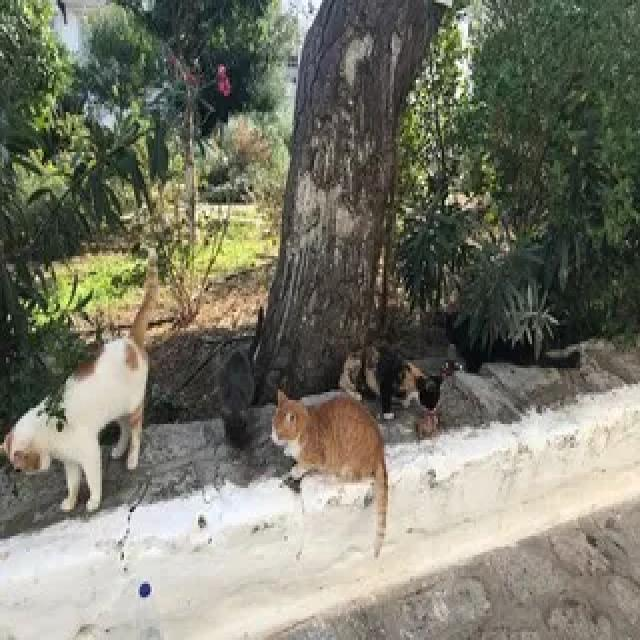cat: (1, 248, 159, 512), (271, 390, 388, 556), (340, 345, 442, 419), (220, 307, 262, 446)
